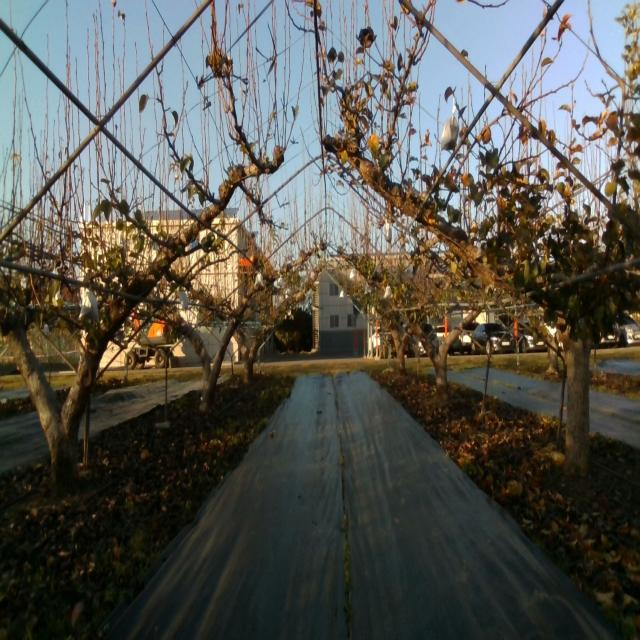pearbags: (440, 106, 460, 155), (79, 292, 100, 326), (179, 291, 189, 311)
